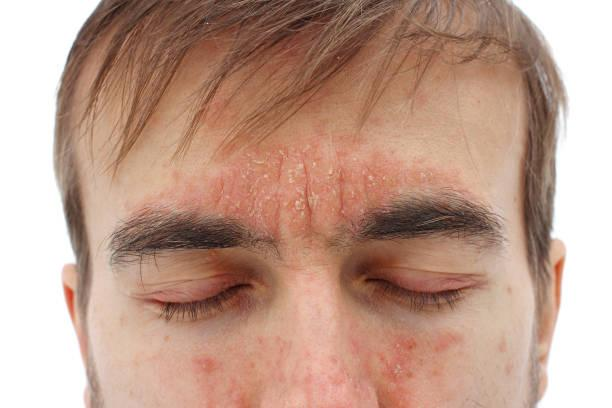Dry-Skin: (181, 129, 411, 222), (362, 316, 470, 404)
